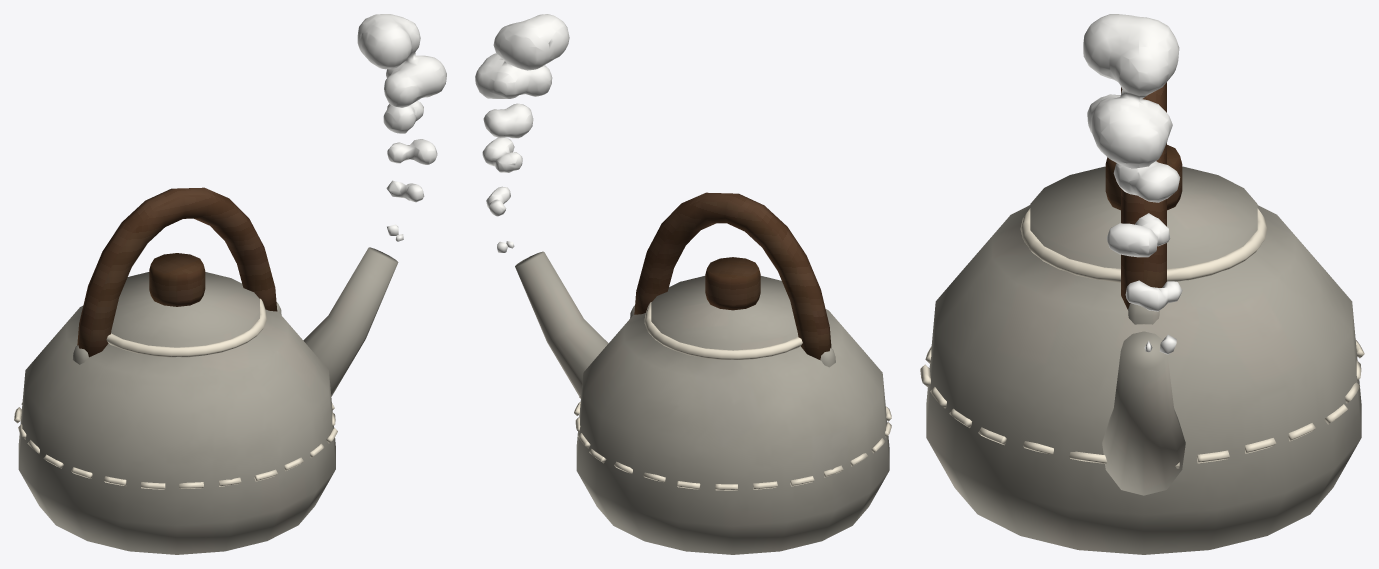
File: kettle_enamel.glb
3 renders of one model, left to right at view 1: azimuth 30°, elevation 25°; view 2: azimuth 150°, elevation 25°; view 3: azimuth 270°, elevation 25°, orthographic. The views are drawn at different scales.
Parts seen in each view (by area): view 1: kettle_enamel_felt_enamel, kettle_enamel_wood_dark, kettle_enamel_steam13, kettle_enamel_thread; view 2: kettle_enamel_felt_enamel, kettle_enamel_wood_dark, kettle_enamel_steam13, kettle_enamel_thread; view 3: kettle_enamel_felt_enamel, kettle_enamel_steam13, kettle_enamel_thread, kettle_enamel_wood_dark.
Part boxes in pixels (x1,y1,x2,y2): kettle_enamel_felt_enamel: (18, 247, 398, 554); kettle_enamel_wood_dark: (77, 187, 277, 357); kettle_enamel_steam13: (357, 14, 446, 241); kettle_enamel_thread: (14, 298, 337, 489); kettle_enamel_felt_enamel: (515, 251, 889, 554); kettle_enamel_wood_dark: (634, 192, 831, 359); kettle_enamel_steam13: (475, 14, 569, 252); kettle_enamel_thread: (574, 302, 891, 490); kettle_enamel_felt_enamel: (926, 166, 1361, 554); kettle_enamel_steam13: (1083, 14, 1182, 354); kettle_enamel_thread: (920, 208, 1364, 468); kettle_enamel_wood_dark: (1105, 82, 1182, 309).
Bounding box in the file's own units: 0.661 × 0.6787 × 0.4624.
4 materials, 2 textured.
